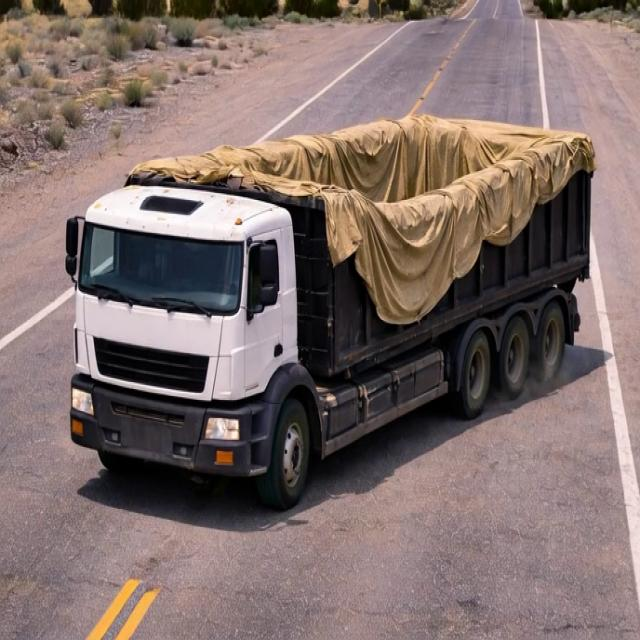Box: (135, 111, 596, 256)
Truck: (49, 98, 607, 492)
